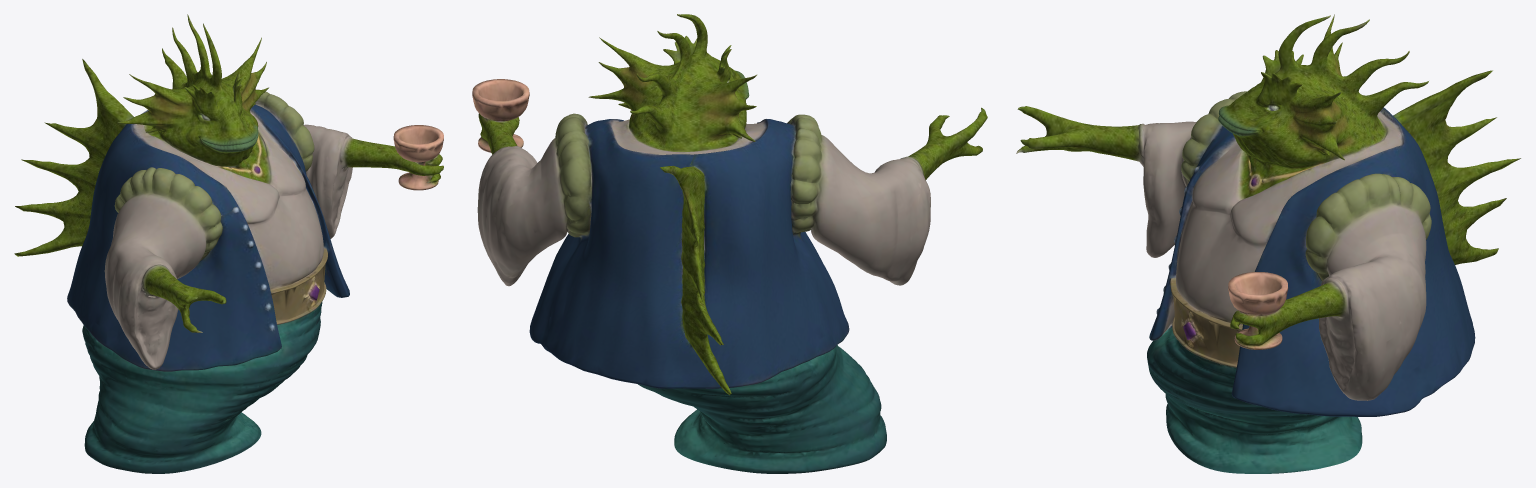
The model's file is MZ4250 - Marid.glb.
3 views of the same model, side by side, from view 1: azimuth 30°, elevation 25°; view 2: azimuth 150°, elevation 25°; view 3: azimuth 270°, elevation 25° (orthographic). The views are drawn at different scales.
Parts seen in each view (by area): view 1: default; view 2: default; view 3: default.
Part boxes in pixels (left/top/right/bottom): default: left=14, top=14, right=443, bottom=473; default: left=472, top=14, right=987, bottom=473; default: left=1016, top=14, right=1520, bottom=473.
Bounding box in the file's own units: 1.24 × 1.25 × 1.27.
1 material, 1 textured.
